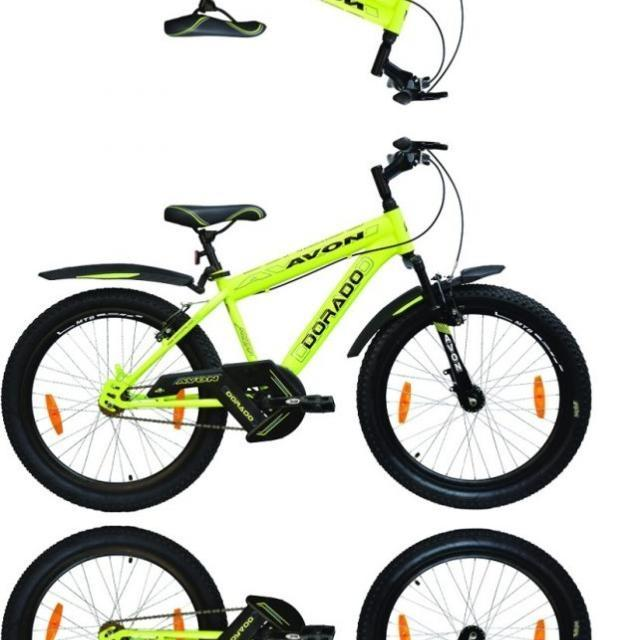obstacle: (6, 132, 600, 518), (5, 518, 600, 640), (5, 0, 600, 108)
